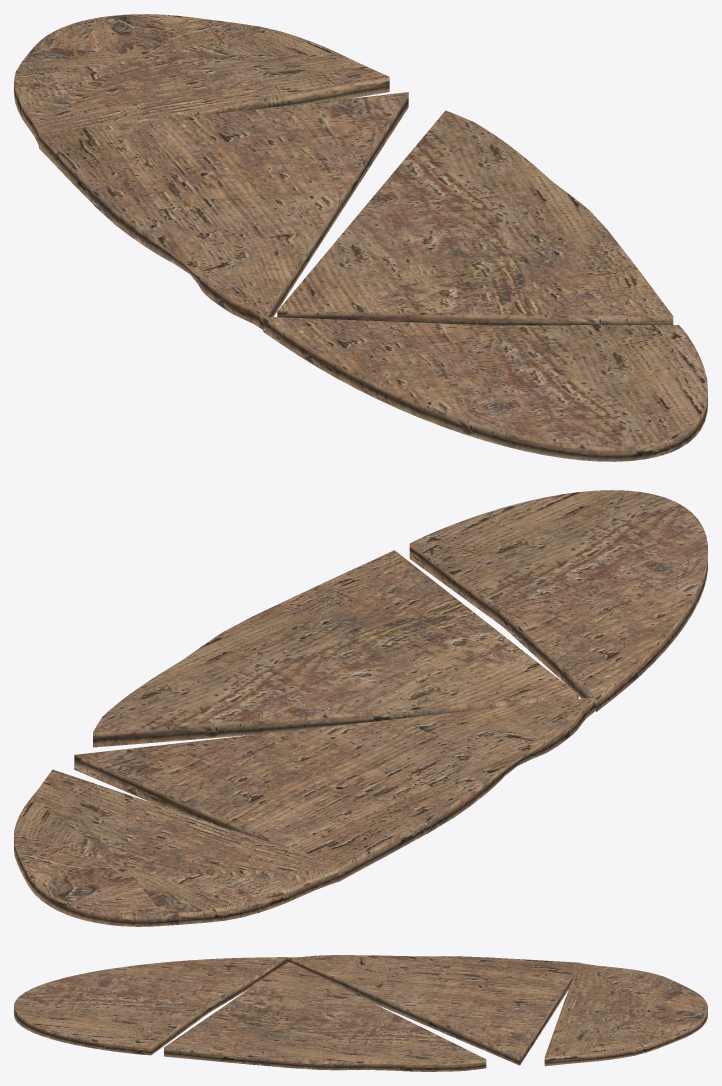
File: bigz_board.fbx
3 views of the same model, one above another, from view 1: azimuth 30°, elevation 25°; view 2: azimuth 150°, elevation 25°; view 3: azimuth 270°, elevation 25° (orthographic). The views are drawn at different scales.
Parts seen in each view (by area): view 1: Cylinder003; view 2: Cylinder003; view 3: Cylinder003.
Part boxes in pixels (<box>): Cylinder003: <box>14,14,707,461</box>; Cylinder003: <box>14,490,707,926</box>; Cylinder003: <box>14,955,707,1071</box>.
Size of the model in its own units: 8.97 by 0.3602 by 24.43.
1 material, 1 textured.
